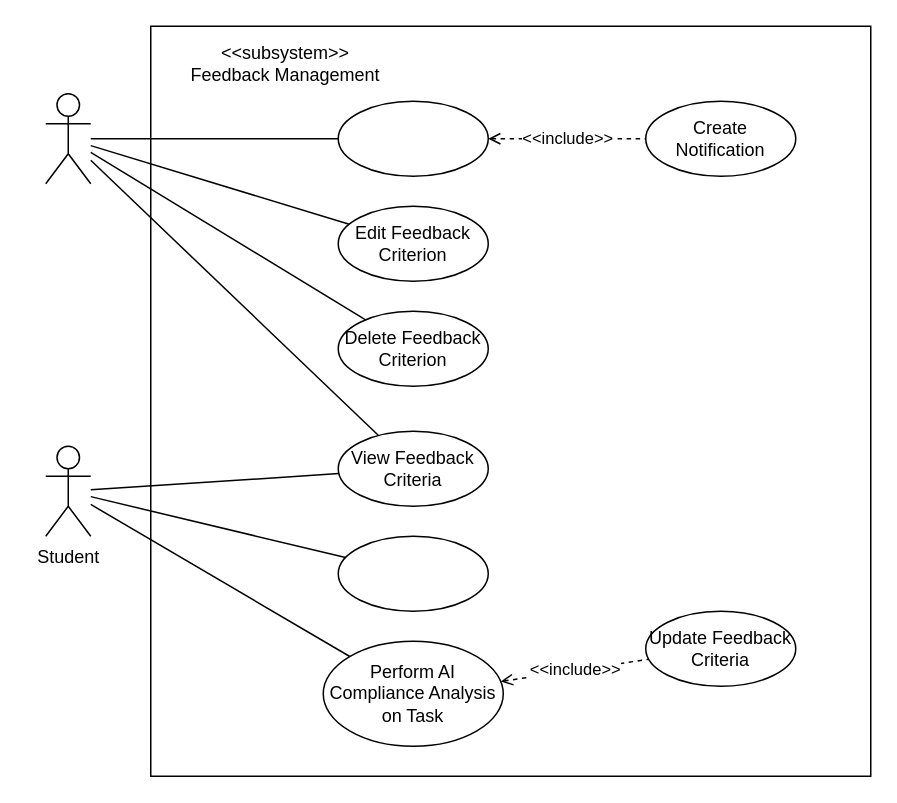
Image size: 897x803. Some labels were removed from this diagram. Here are the shapes that lost their labels. From the top down, the box of each, then its label:
(44, 92, 91, 184): Supervisor
(337, 100, 488, 176): Create Feedback Criterion
(337, 535, 488, 611): Override Feedback Criterion
